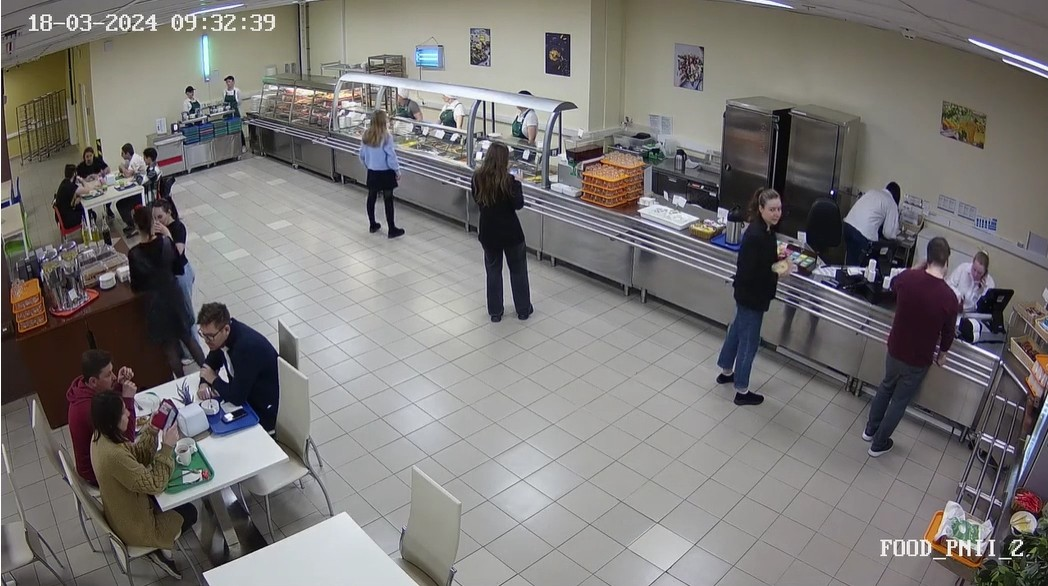Na_Kasse: (805, 224, 984, 454), (694, 183, 808, 404)
Ne_v_Ocheredi: (109, 209, 251, 369), (152, 201, 211, 319)
Personal: (843, 174, 904, 254), (957, 243, 1005, 298), (508, 101, 546, 147), (432, 88, 460, 141), (217, 70, 243, 118), (180, 83, 202, 136)
Vybiraet: (469, 139, 546, 330), (358, 108, 411, 244)
Za_Stolom: (92, 400, 196, 555), (196, 302, 288, 441), (56, 355, 123, 472), (58, 164, 86, 229), (134, 147, 166, 196), (74, 146, 114, 178), (113, 137, 140, 182)
